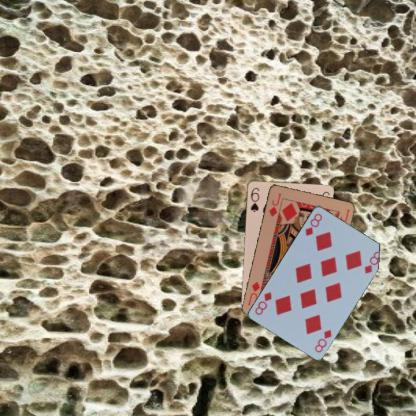6s: (248, 185, 260, 213)
8d: (312, 326, 333, 354), (302, 210, 323, 237)
Jd: (266, 190, 283, 218)
